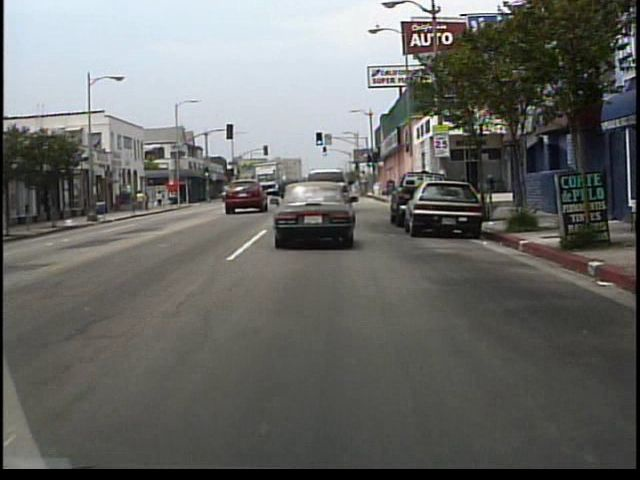person: (136, 190, 145, 212), (157, 189, 165, 208), (145, 191, 151, 211)
